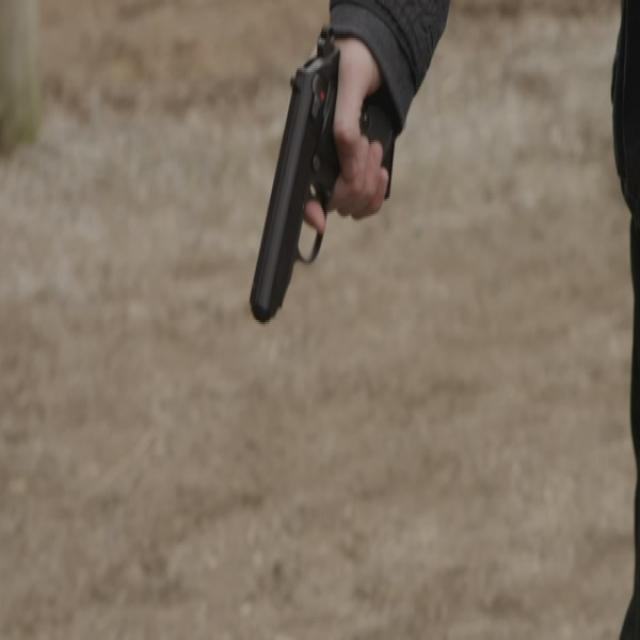weapons: (244, 20, 406, 359)
